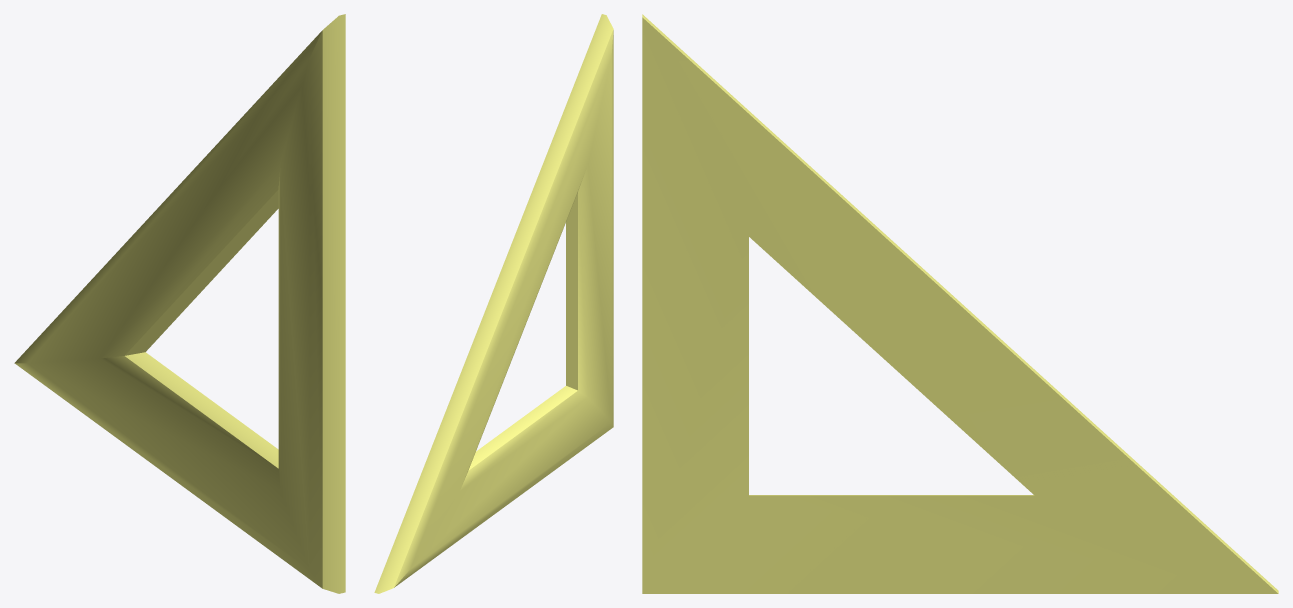
The model's file is escuadra.fbx.
3 views of the same model, side by side, from view 1: azimuth 30°, elevation 25°; view 2: azimuth 150°, elevation 25°; view 3: azimuth 270°, elevation 25° (orthographic). The views are drawn at different scales.
Parts seen in each view (by area): view 1: escuadra; view 2: escuadra; view 3: escuadra.
Boxes of the visible parts, box(x1,y1,x2,y2) form: escuadra: box(14, 14, 345, 593); escuadra: box(374, 14, 613, 593); escuadra: box(642, 14, 1278, 593).
Size of the model in its own units: 4.89 by 109 by 109.
